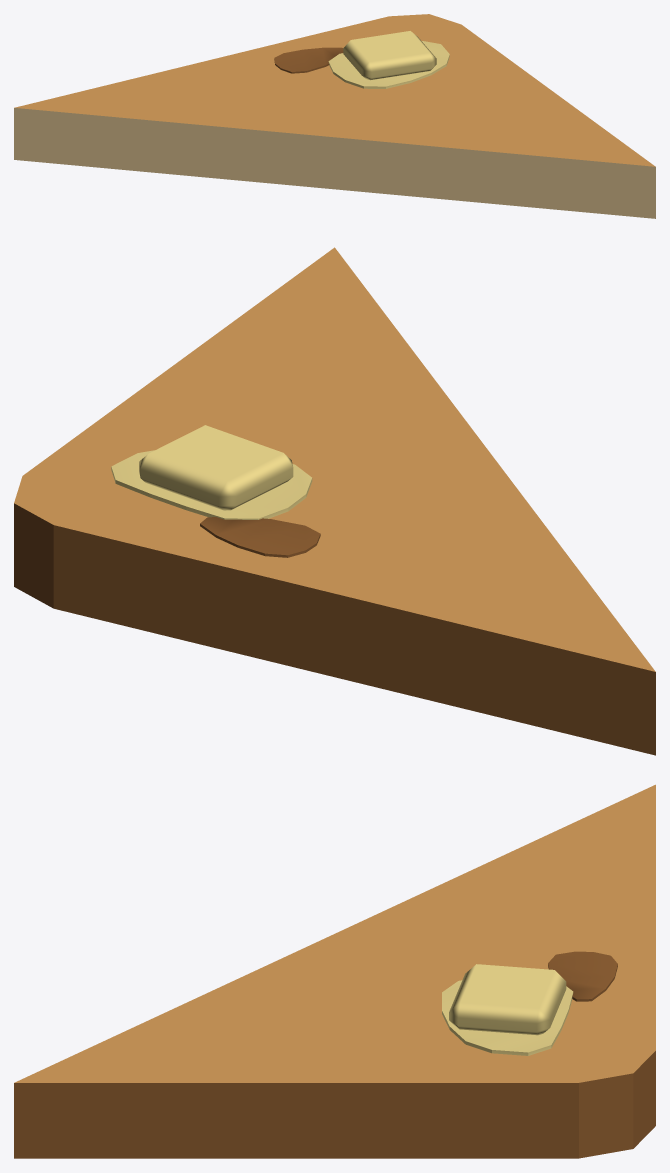
The model's file is biteToast.glb.
The picture shows the model from 3 angles, top to bottom: view 1: azimuth 30°, elevation 25°; view 2: azimuth 150°, elevation 25°; view 3: azimuth 270°, elevation 25°; orthographic projection. The views are drawn at different scales.
Visible parts, largest first — view 1: biteToast; view 2: biteToast; view 3: biteToast.
Part boxes in pixels (bbox=[...]): biteToast: bbox=[14, 14, 655, 218]; biteToast: bbox=[14, 247, 655, 755]; biteToast: bbox=[14, 784, 655, 1158].
Bounding box in the file's own units: 0.11 × 0.0179 × 0.1.
